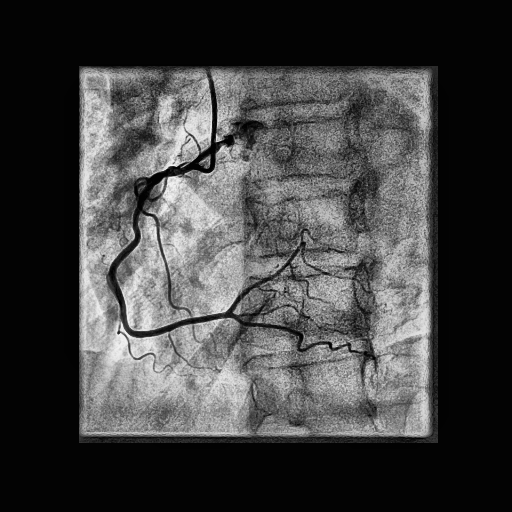pborca: (226, 242, 368, 313)
pda: (232, 313, 381, 359)
rca: (109, 160, 233, 338)
